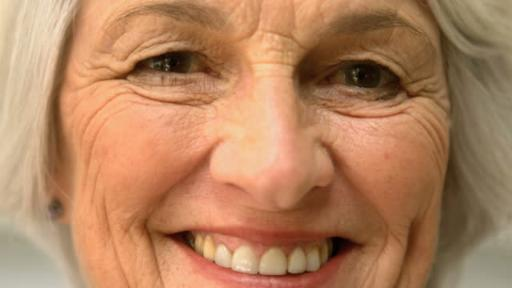left_eye: (315, 63, 404, 94)
left_lip_corner: (345, 234, 375, 253)
right_eye: (133, 50, 223, 79)
right_lip_corner: (154, 226, 190, 245)
